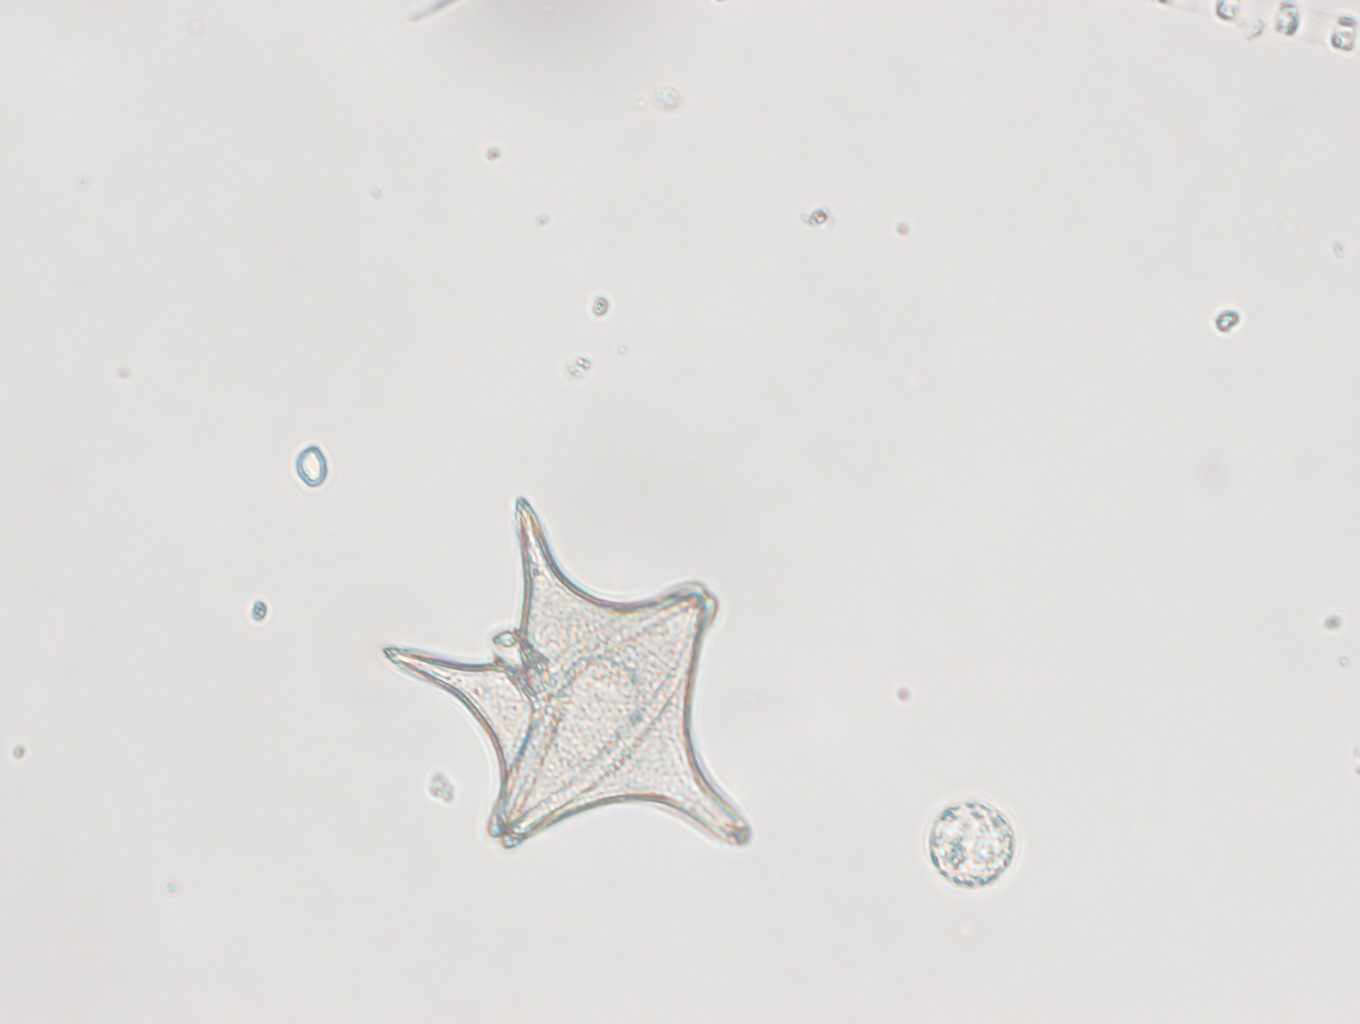protoperidinium: (380, 494, 751, 851)
